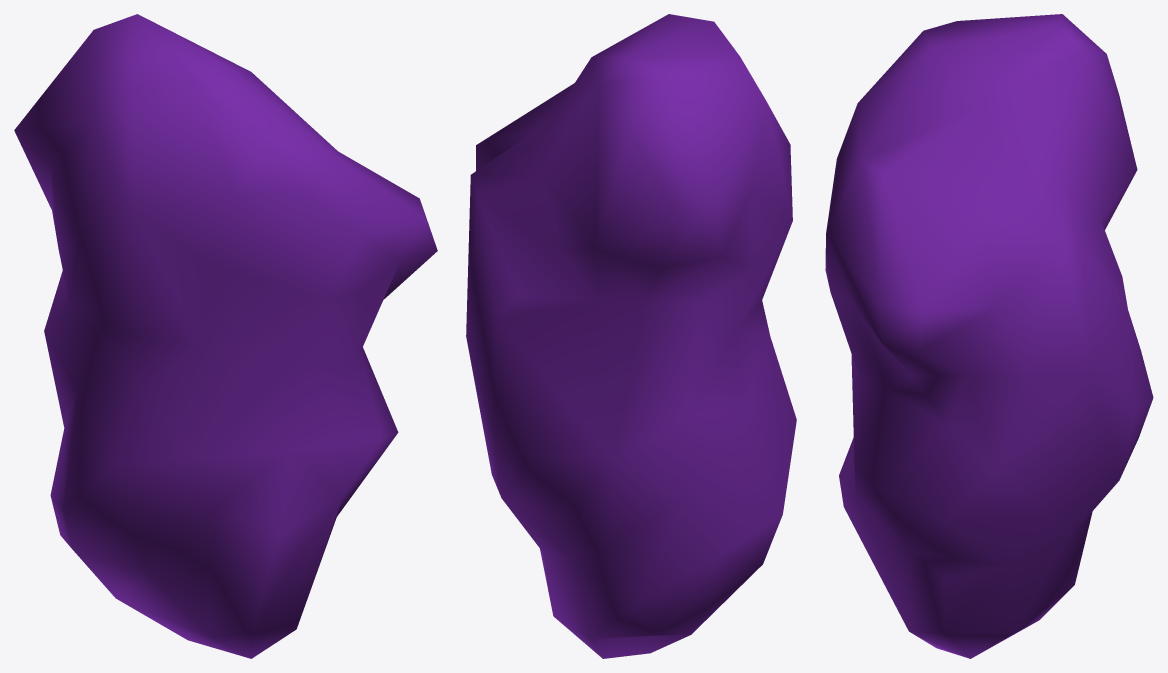
Rendered from Nuc_FONC.fbx.
The picture shows the model from 3 angles, left to right: view 1: azimuth 30°, elevation 25°; view 2: azimuth 150°, elevation 25°; view 3: azimuth 270°, elevation 25°; orthographic projection. The views are drawn at different scales.
Parts seen in each view (by area): view 1: CoarseMS_1a1t; view 2: CoarseMS_1a1t; view 3: CoarseMS_1a1t.
Part boxes in pixels (x1=…): CoarseMS_1a1t: x1=14, y1=14, x2=437, y2=658; CoarseMS_1a1t: x1=466, y1=14, x2=796, y2=658; CoarseMS_1a1t: x1=825, y1=14, x2=1153, y2=658.
Bounding box in the file's own units: 36.44 × 65.11 × 32.34.
